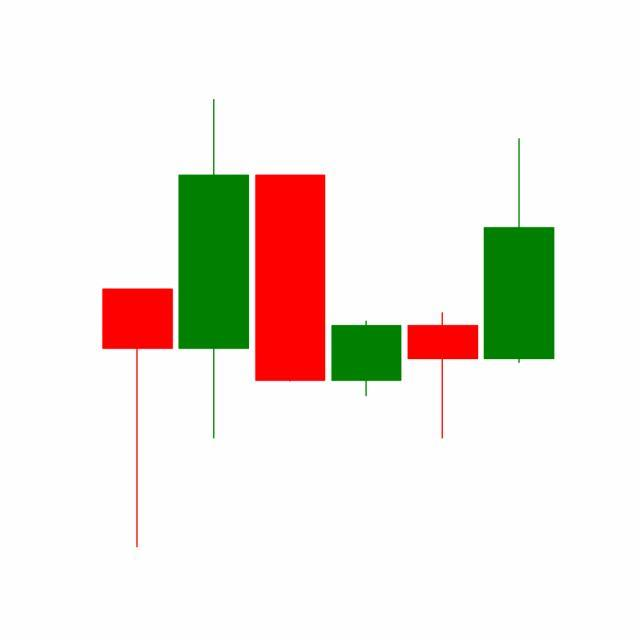Hammer: (404, 311, 482, 441)
